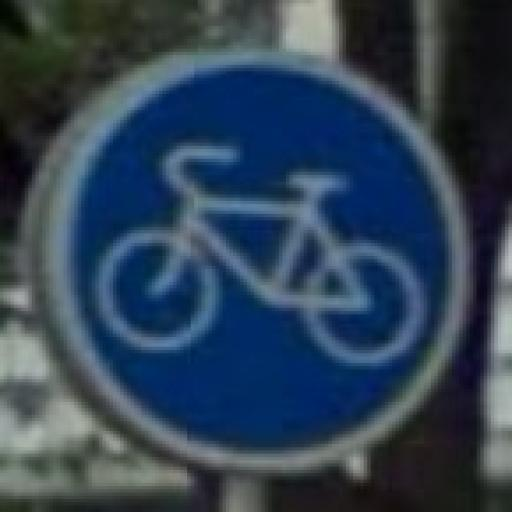traffic_sign: (44, 47, 482, 481)
